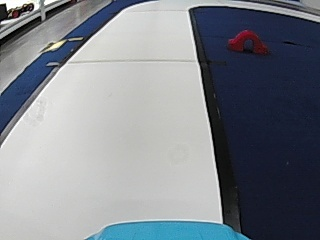bridge: (227, 29, 267, 53)
